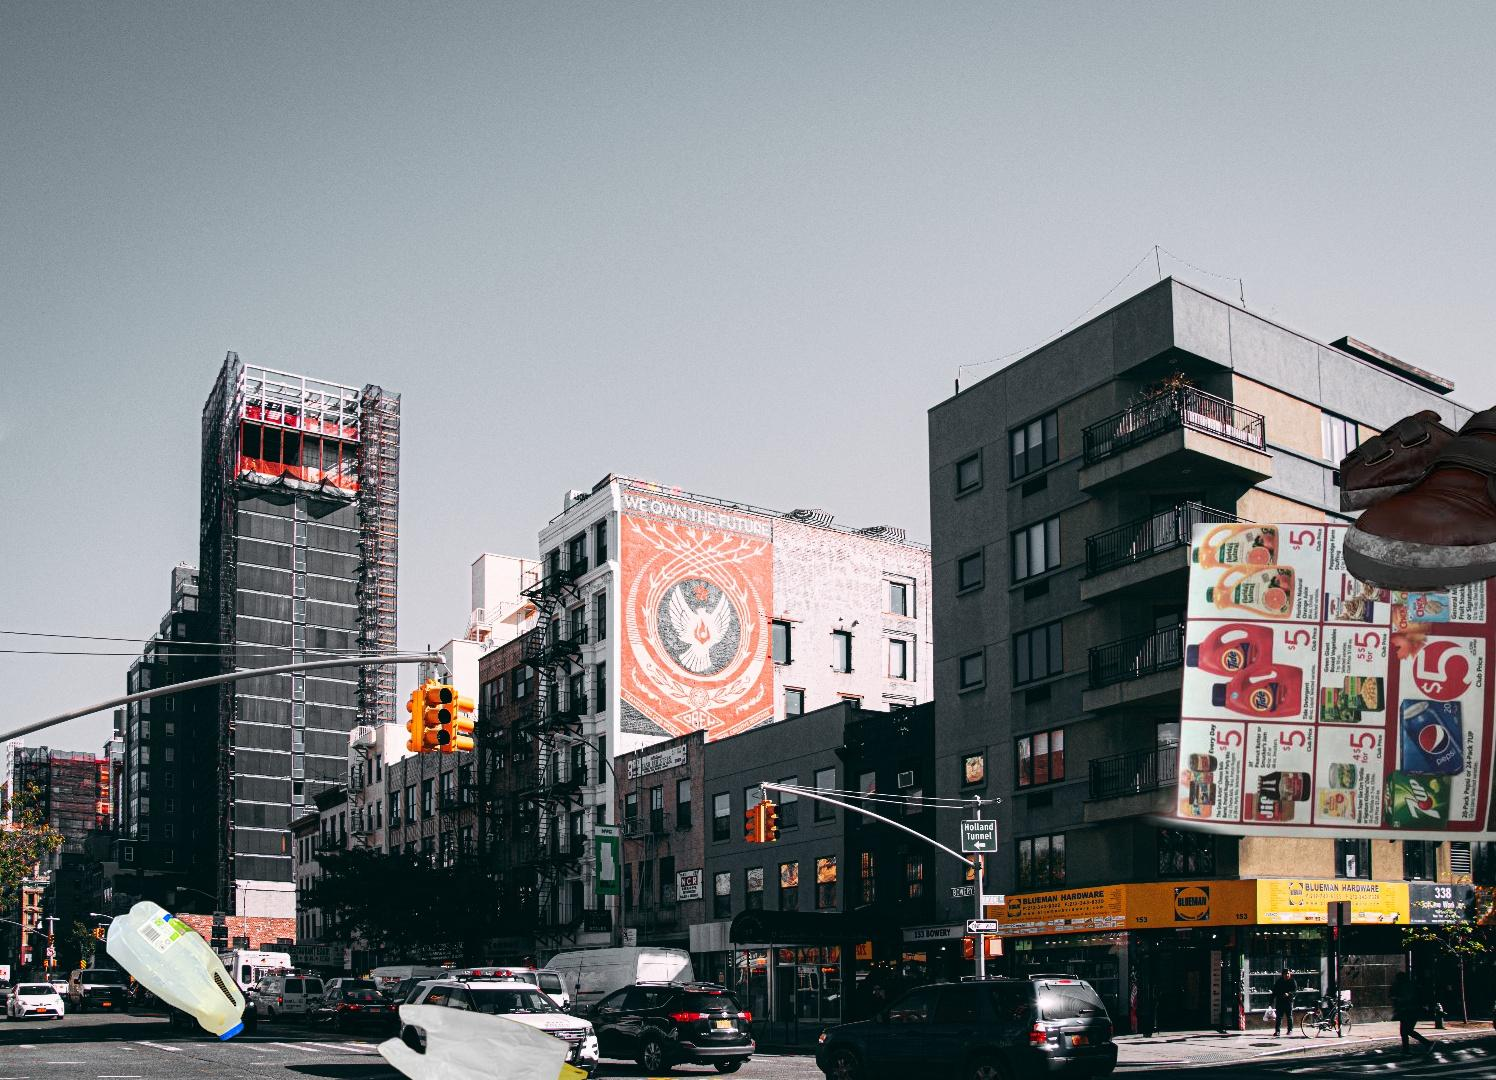paper: (1134, 523, 1496, 895)
plastic-bag: (375, 1001, 602, 1080)
plastic-bottles: (101, 894, 251, 1047)
shoes: (1340, 398, 1496, 595)
